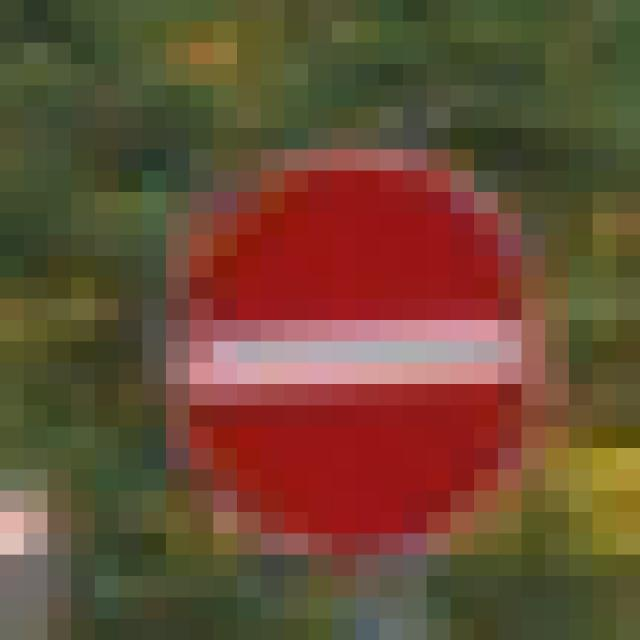No Entry: (143, 108, 523, 534)
